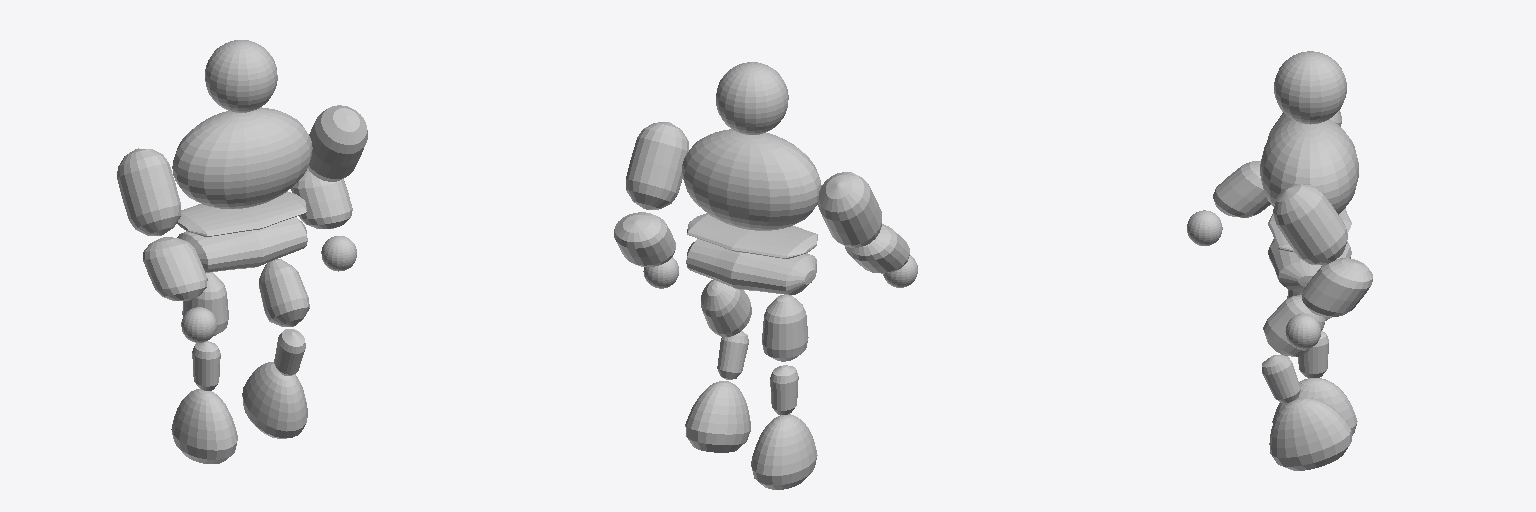
File: PTwo1.obj
3 renders of one model, left to right at view 1: azimuth 30°, elevation 25°; view 2: azimuth 150°, elevation 25°; view 3: azimuth 270°, elevation 25°, orthographic.
Size of the model in its own units: 4.01 by 6.49 by 2.72.